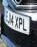L: (23, 18, 27, 32)
P: (19, 17, 22, 30)
X: (15, 15, 19, 28)
